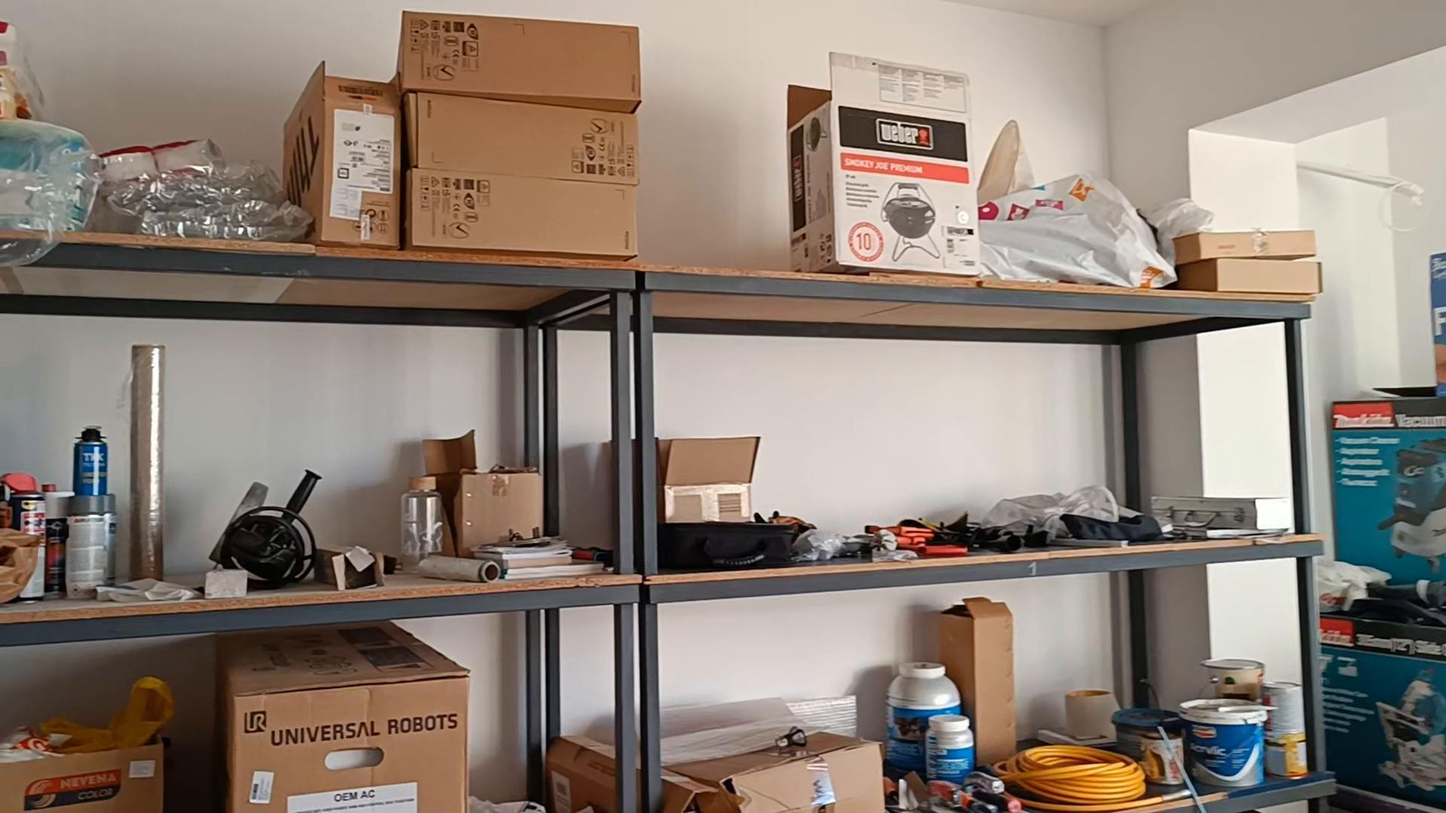wall: (0, 0, 1445, 547), (8, 320, 516, 551), (653, 334, 1106, 491), (662, 598, 834, 704)
